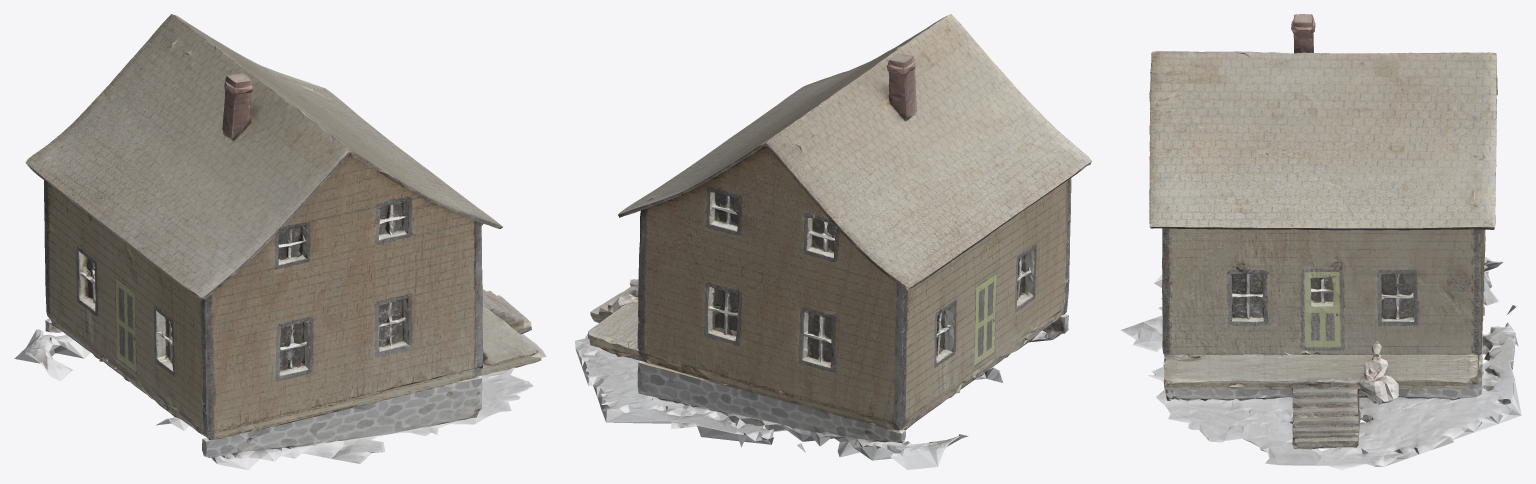
Rendered from mdl_bat_ete_55.fbx.
3 renders of one model, left to right at view 1: azimuth 30°, elevation 25°; view 2: azimuth 150°, elevation 25°; view 3: azimuth 270°, elevation 25°, orthographic. The views are drawn at different scales.
Parts seen in each view (by area): view 1: mdl_bat_ete_55; view 2: mdl_bat_ete_55; view 3: mdl_bat_ete_55.
Boxes of the visible parts, x1,y1,x2,y2 form: mdl_bat_ete_55: (14,14,546,469); mdl_bat_ete_55: (575,14,1091,469); mdl_bat_ete_55: (1120,14,1521,469).
Size of the model in its own units: 22.56 by 16.94 by 19.48.
1 material, 1 textured.
